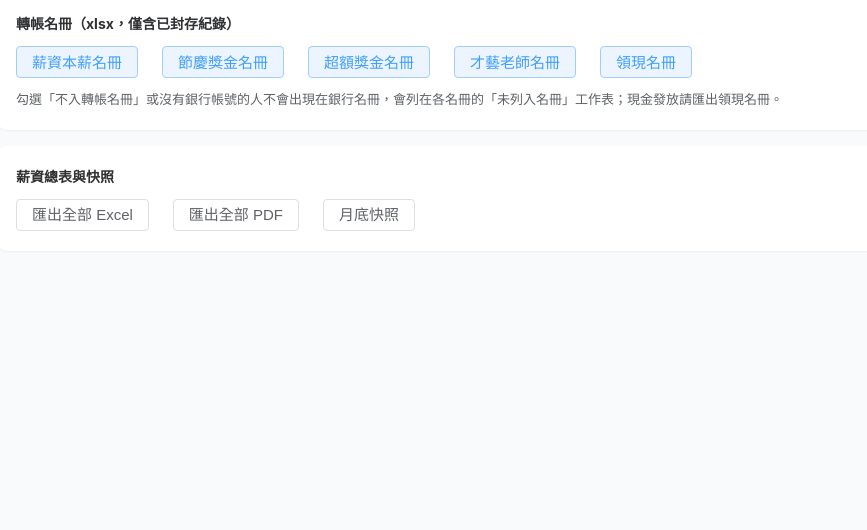
Test: StepExport › 匯出轉帳名冊成功 → downloadFileWithHeaders 帶 type 與檔名；匯出後顯示完成卡
The width and height of the screenshot is (867, 530).
Click the button "節慶獎金名冊".
click(223, 62)  # box x1=162 y1=46 x2=284 y2=78
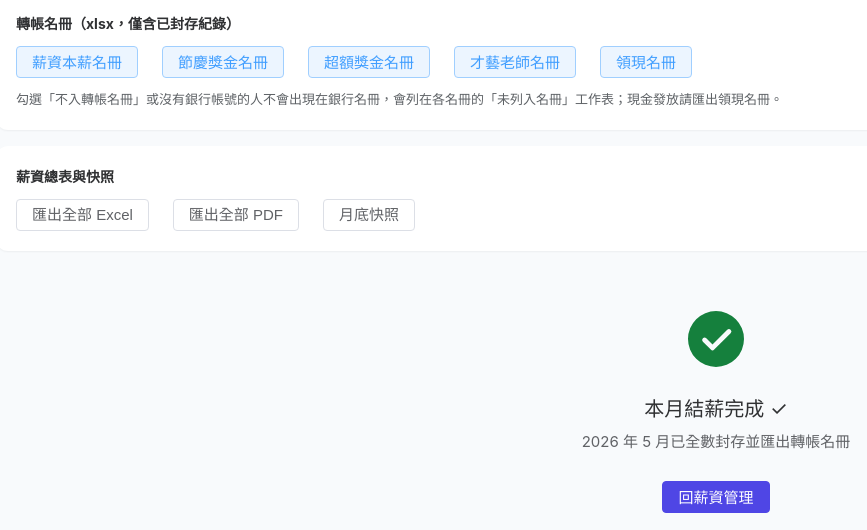
Check: the text "本月結薪完成" is shown, box x1=644 y1=396 x2=788 y2=420
